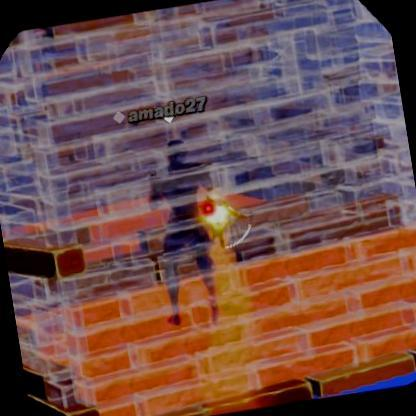person: (141, 136, 227, 338)
